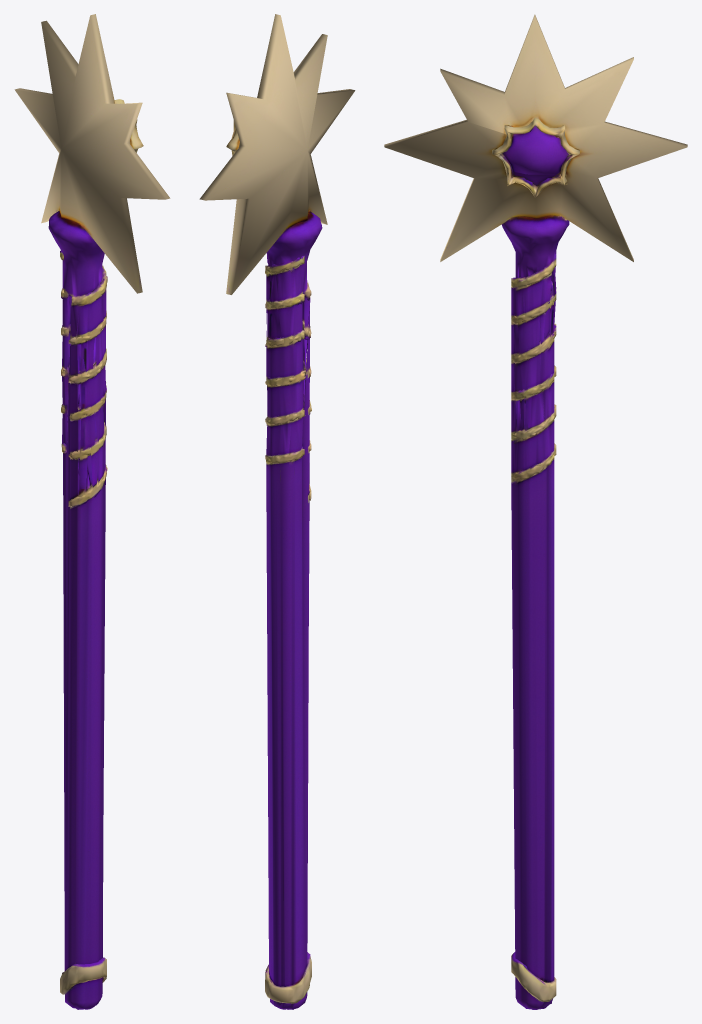
The model's file is r33-wand.glb.
The picture shows the model from 3 angles, left to right: view 1: azimuth 30°, elevation 25°; view 2: azimuth 150°, elevation 25°; view 3: azimuth 270°, elevation 25°; orthographic projection.
Visible parts, largest first — view 1: tripo_node_1c479ce5-3836-417e-9922-475153c7d416; view 2: tripo_node_1c479ce5-3836-417e-9922-475153c7d416; view 3: tripo_node_1c479ce5-3836-417e-9922-475153c7d416.
Boxes of the visible parts, box(x1,y1,x2,y2) form: tripo_node_1c479ce5-3836-417e-9922-475153c7d416: box(14, 14, 170, 1009); tripo_node_1c479ce5-3836-417e-9922-475153c7d416: box(199, 14, 355, 1009); tripo_node_1c479ce5-3836-417e-9922-475153c7d416: box(384, 14, 687, 1009).
Bounding box in the file's own units: 0.084 × 0.998 × 0.2754.
Materials: 1 (1 with a texture image).
